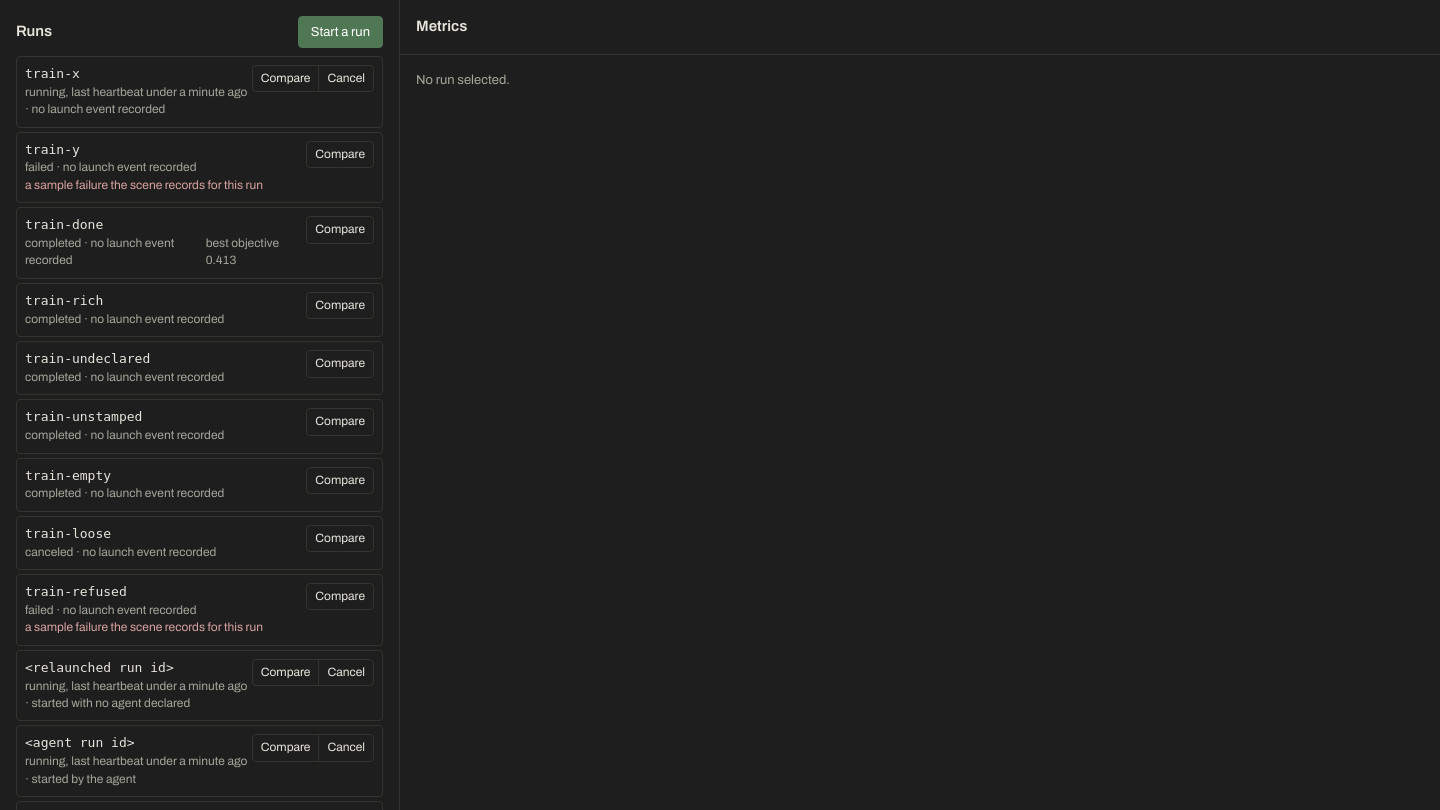
Scenario: TrainingTab run list › shows a failed Cancel in the row, not only as a toast
Click the 1st button "Cancel": (346, 79) [318,66,373,91]
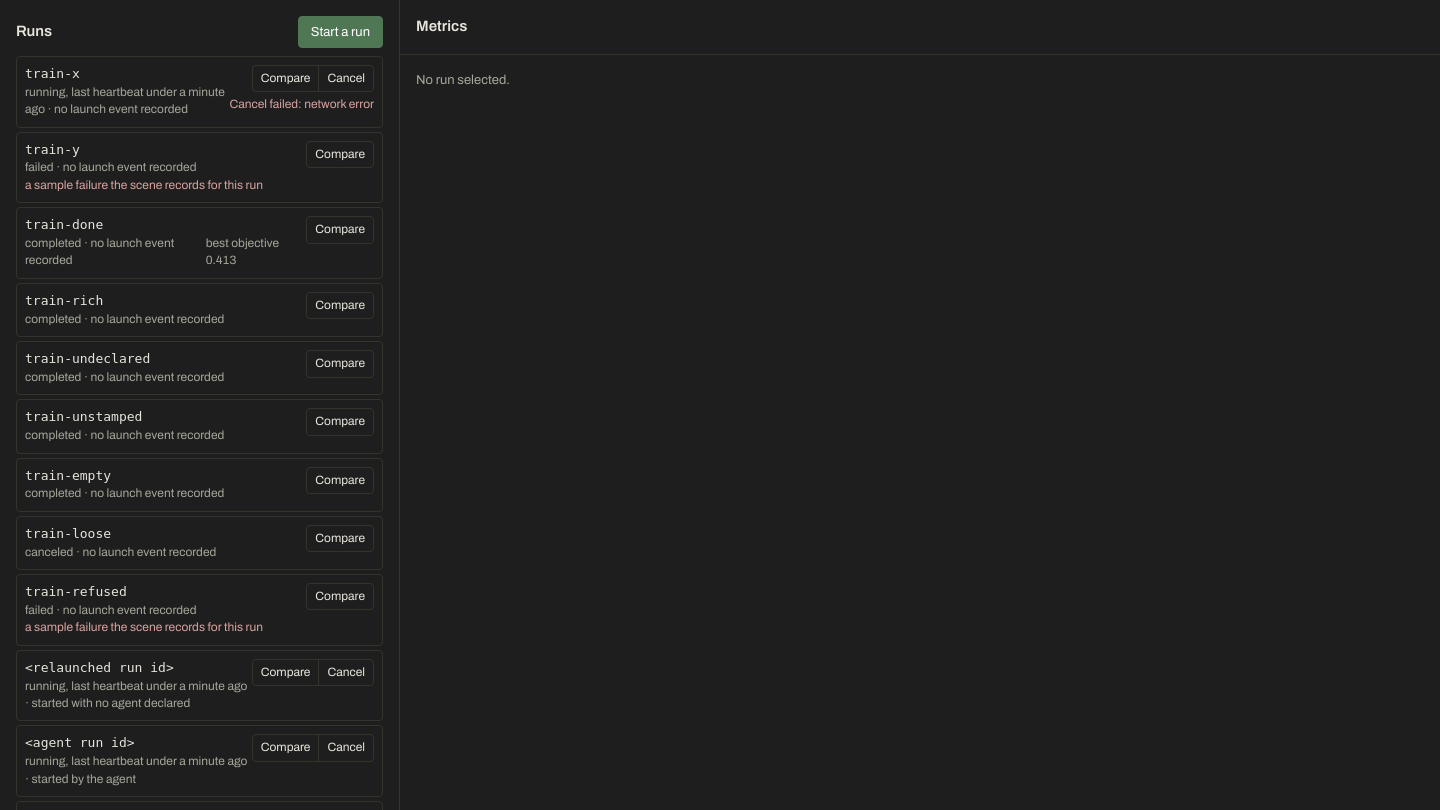
expect the text "Cancel failed: network error" is shown: met, box [229,96,374,114]
